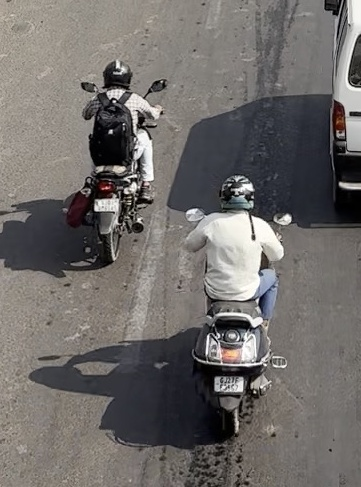BikeWithRider: (180, 162, 300, 444), (56, 51, 175, 269)
Helmet: (212, 171, 258, 214), (99, 55, 135, 88)
